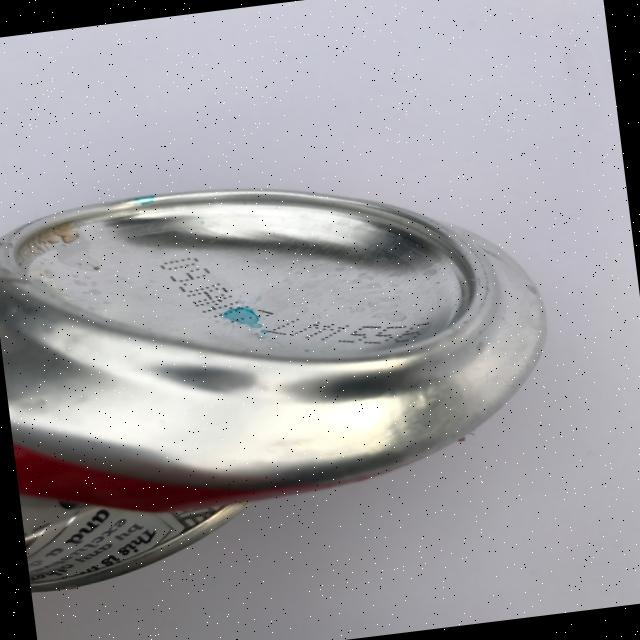metal: (0, 146, 573, 593)
